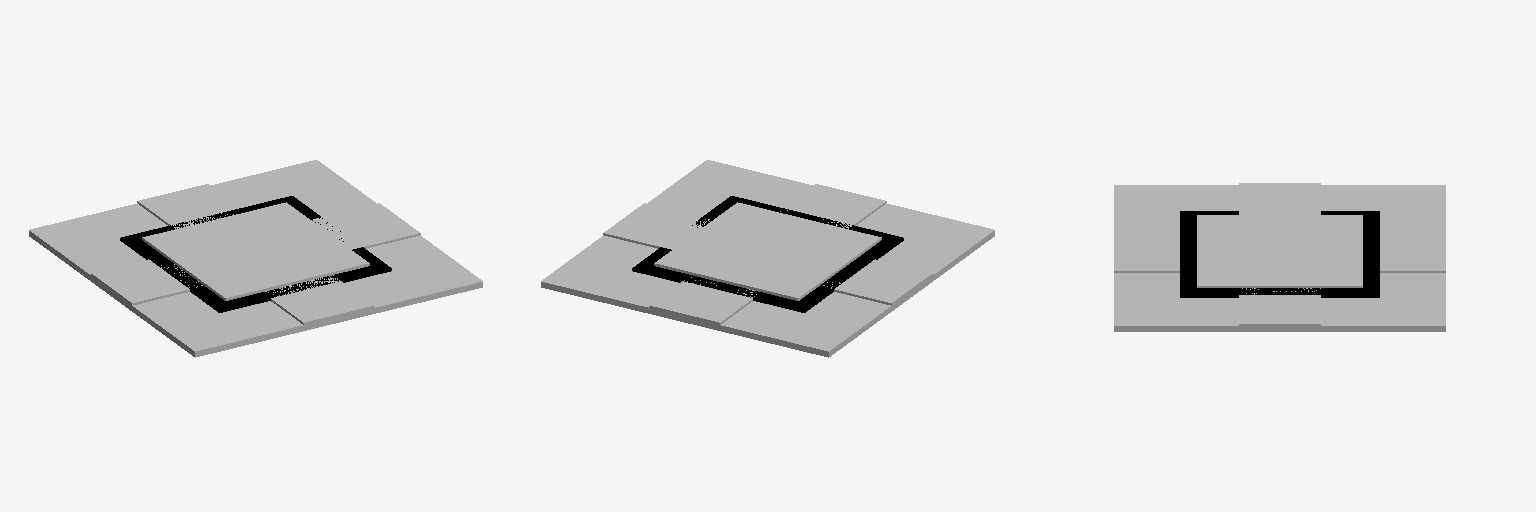
The picture shows the model from 3 angles: view 1: azimuth 30°, elevation 25°; view 2: azimuth 150°, elevation 25°; view 3: azimuth 270°, elevation 25°; orthographic projection.
Visible parts, largest first — view 1: object_4, object_8, object_6, object_2, object_1, object_5, object_7, object_3; view 2: object_4, object_5, object_7, object_2, object_1, object_8, object_6, object_3; view 3: object_4, object_7, object_6, object_2, object_5, object_8, object_1, object_3.
Part boxes in pixels (x1,y1,x2,y2): object_4: (142,202,369,300); object_8: (115,292,335,357); object_6: (339,235,482,322); object_2: (91,203,420,310); object_1: (137,184,374,330); object_5: (29,203,167,289); object_7: (211,160,376,216); object_3: (120,196,391,312); object_4: (654,202,881,300); object_5: (685,292,908,357); object_7: (541,235,684,322); object_2: (603,203,932,310); object_1: (649,184,886,330); object_8: (856,203,994,293); object_6: (647,160,812,216); object_3: (632,196,903,312); object_4: (1197,215,1362,287); object_7: (1280,273,1445,331); object_6: (1114,273,1278,331); object_2: (1239,183,1320,331); object_5: (1321,185,1445,235); object_8: (1114,185,1238,235); object_1: (1114,236,1445,272); object_3: (1180,211,1379,297).
Size of the model in its own units: 20 by 0.75 by 20.